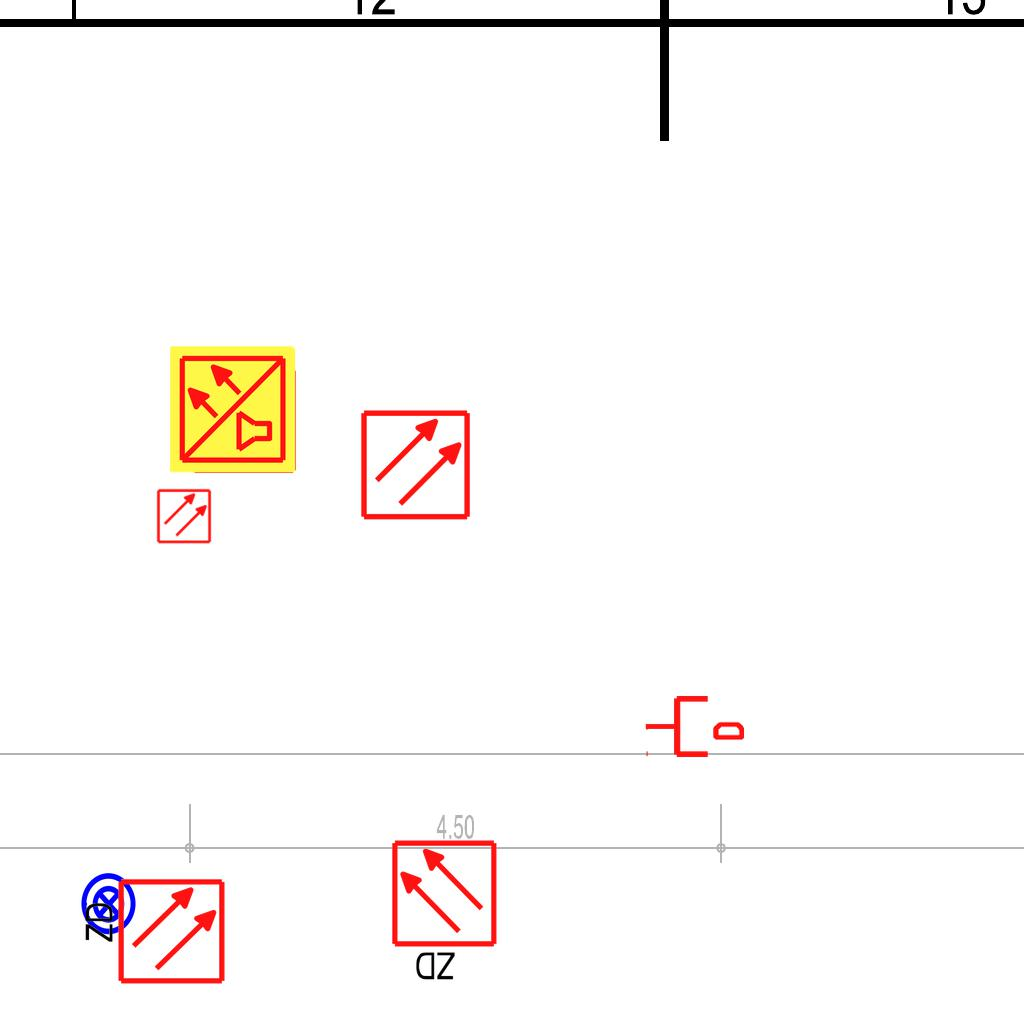Datenanschluss_einfach: (644, 692, 744, 761)
OKW_Multisensormelder_(Kombination_optischer_Rauch-Kahlenmonoxid_Waerme-Melder): (167, 343, 299, 475)
RMO_Rauchmelder_optischer: (359, 408, 472, 521), (156, 488, 212, 544)
Taster_beleuchtet: (76, 871, 142, 937)
ZD_Melder_in_Zwischendecke_mit_Revisionsoeffnung_mind_40_x_40_cm: (389, 838, 503, 987), (78, 876, 227, 990)
